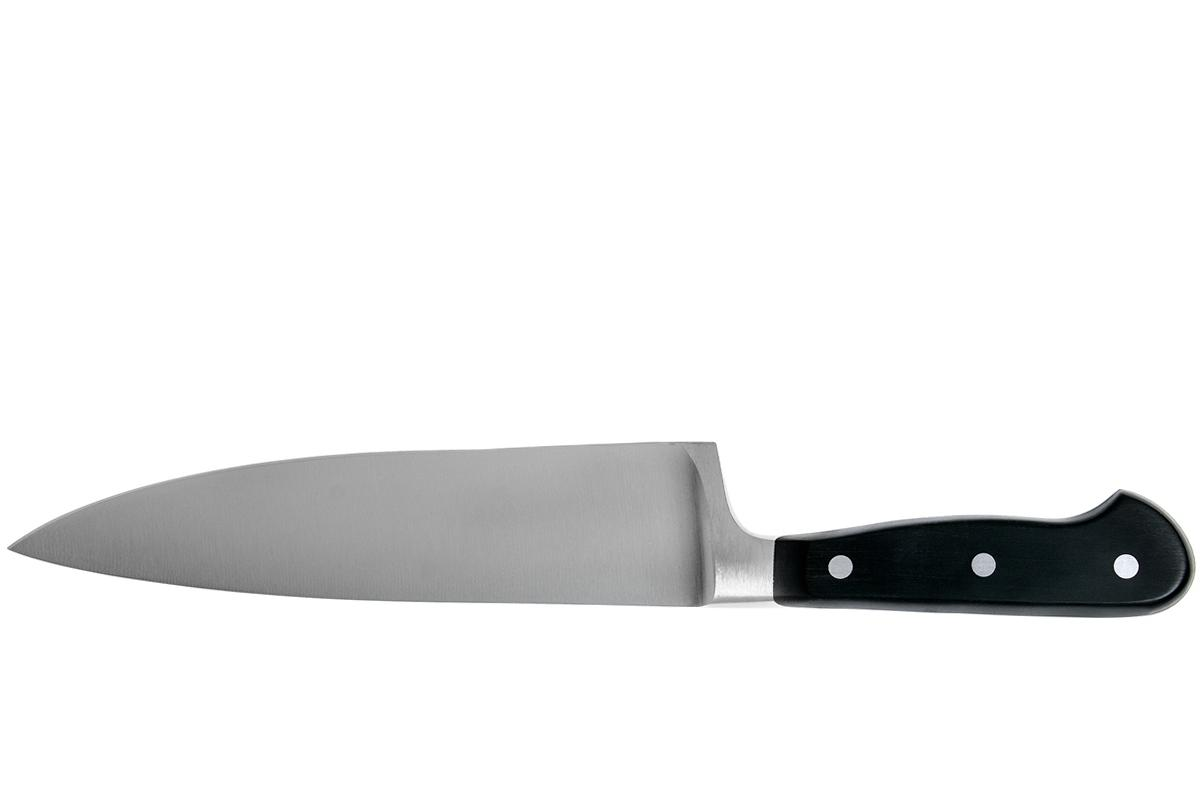knife: (7, 441, 1193, 616)
